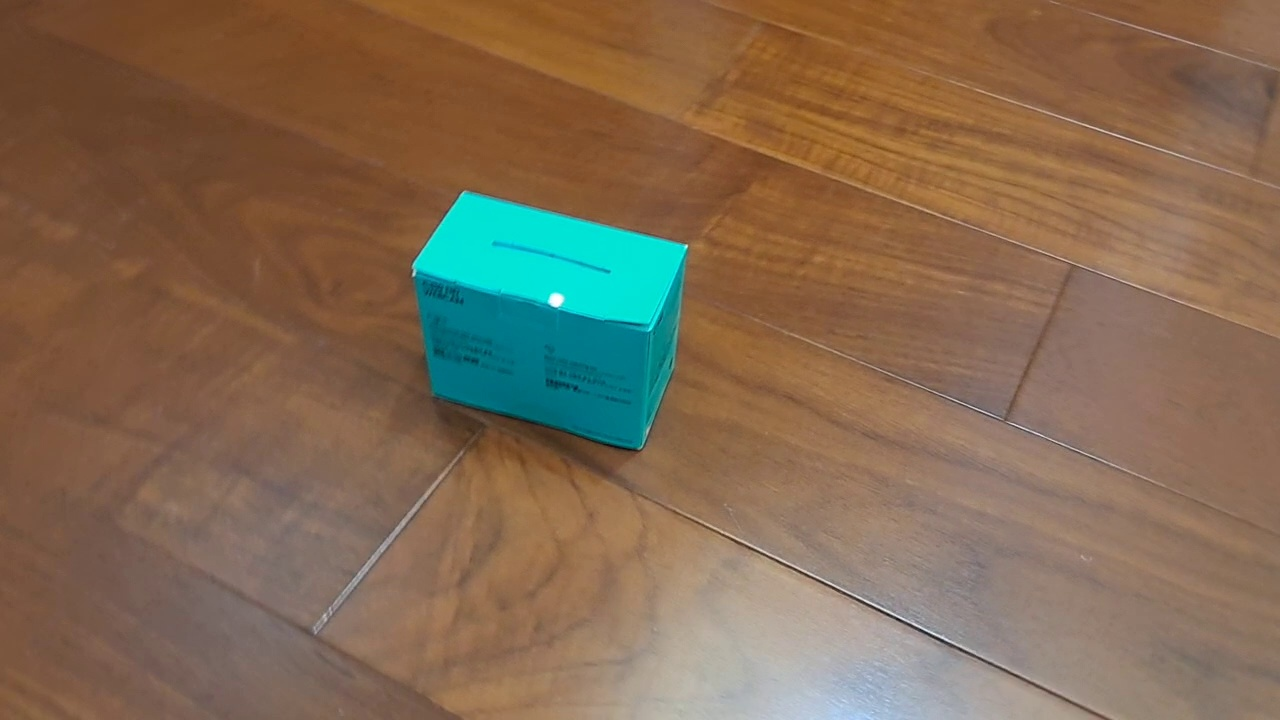webcam: (410, 188, 690, 454)
